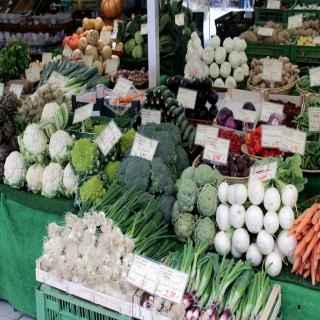Broccoli: (114, 121, 188, 229)
